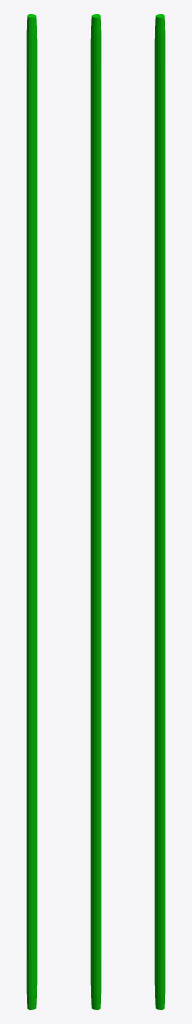
Rendered from green.dae.
3 renders of one model, left to right at view 1: azimuth 30°, elevation 25°; view 2: azimuth 210°, elevation 25°; view 3: azimuth 330°, elevation 25°, orthographic.
Parts seen in each view (by area): view 1: Cylinder; view 2: Cylinder; view 3: Cylinder.
Boxes of the visible parts, bbox=[...] form: Cylinder: bbox=[26, 14, 37, 1009]; Cylinder: bbox=[90, 14, 101, 1009]; Cylinder: bbox=[154, 14, 165, 1009].
Size of the model in its own units: 0.0974 by 0.0984 by 10.
